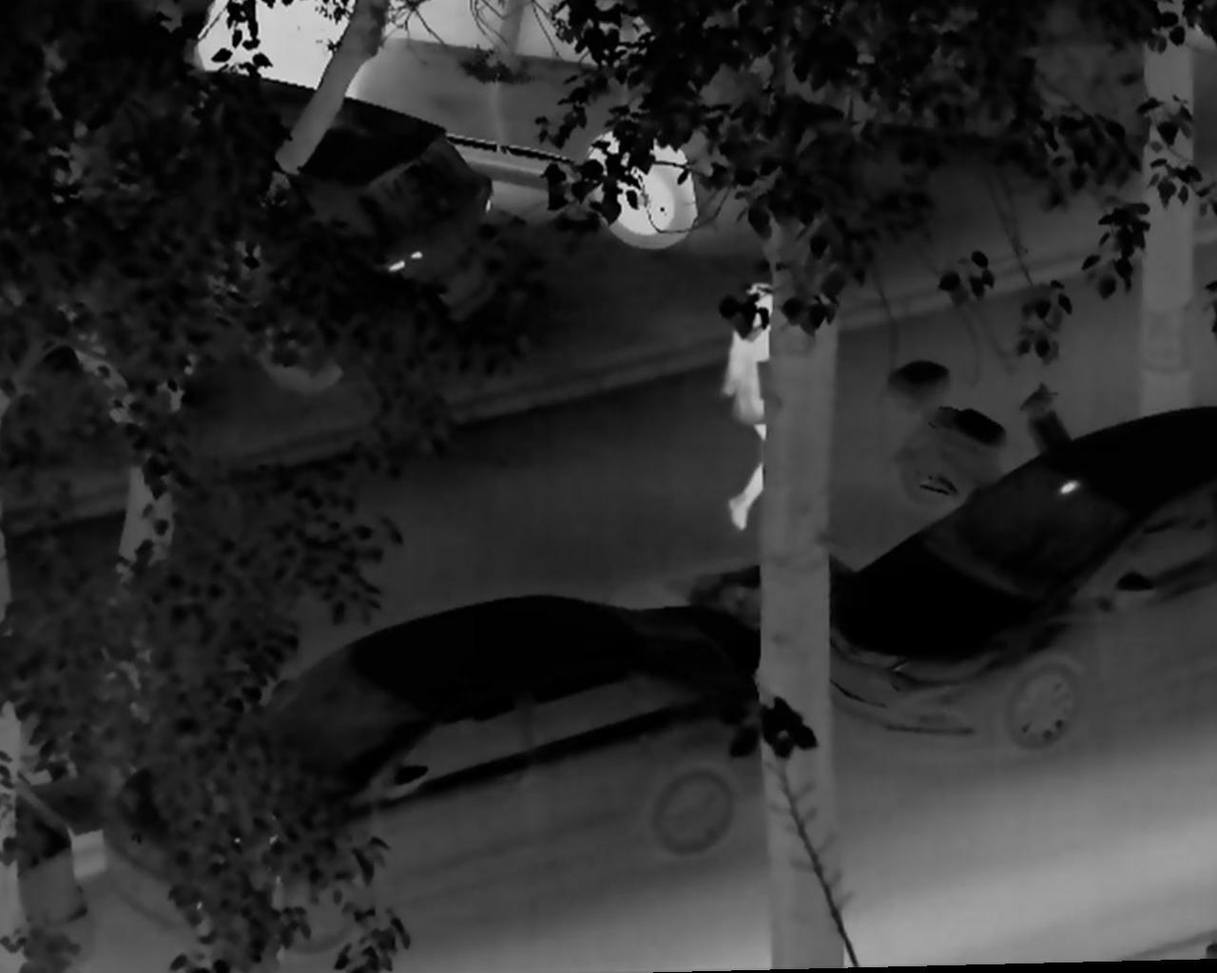person: (712, 280, 783, 530)
